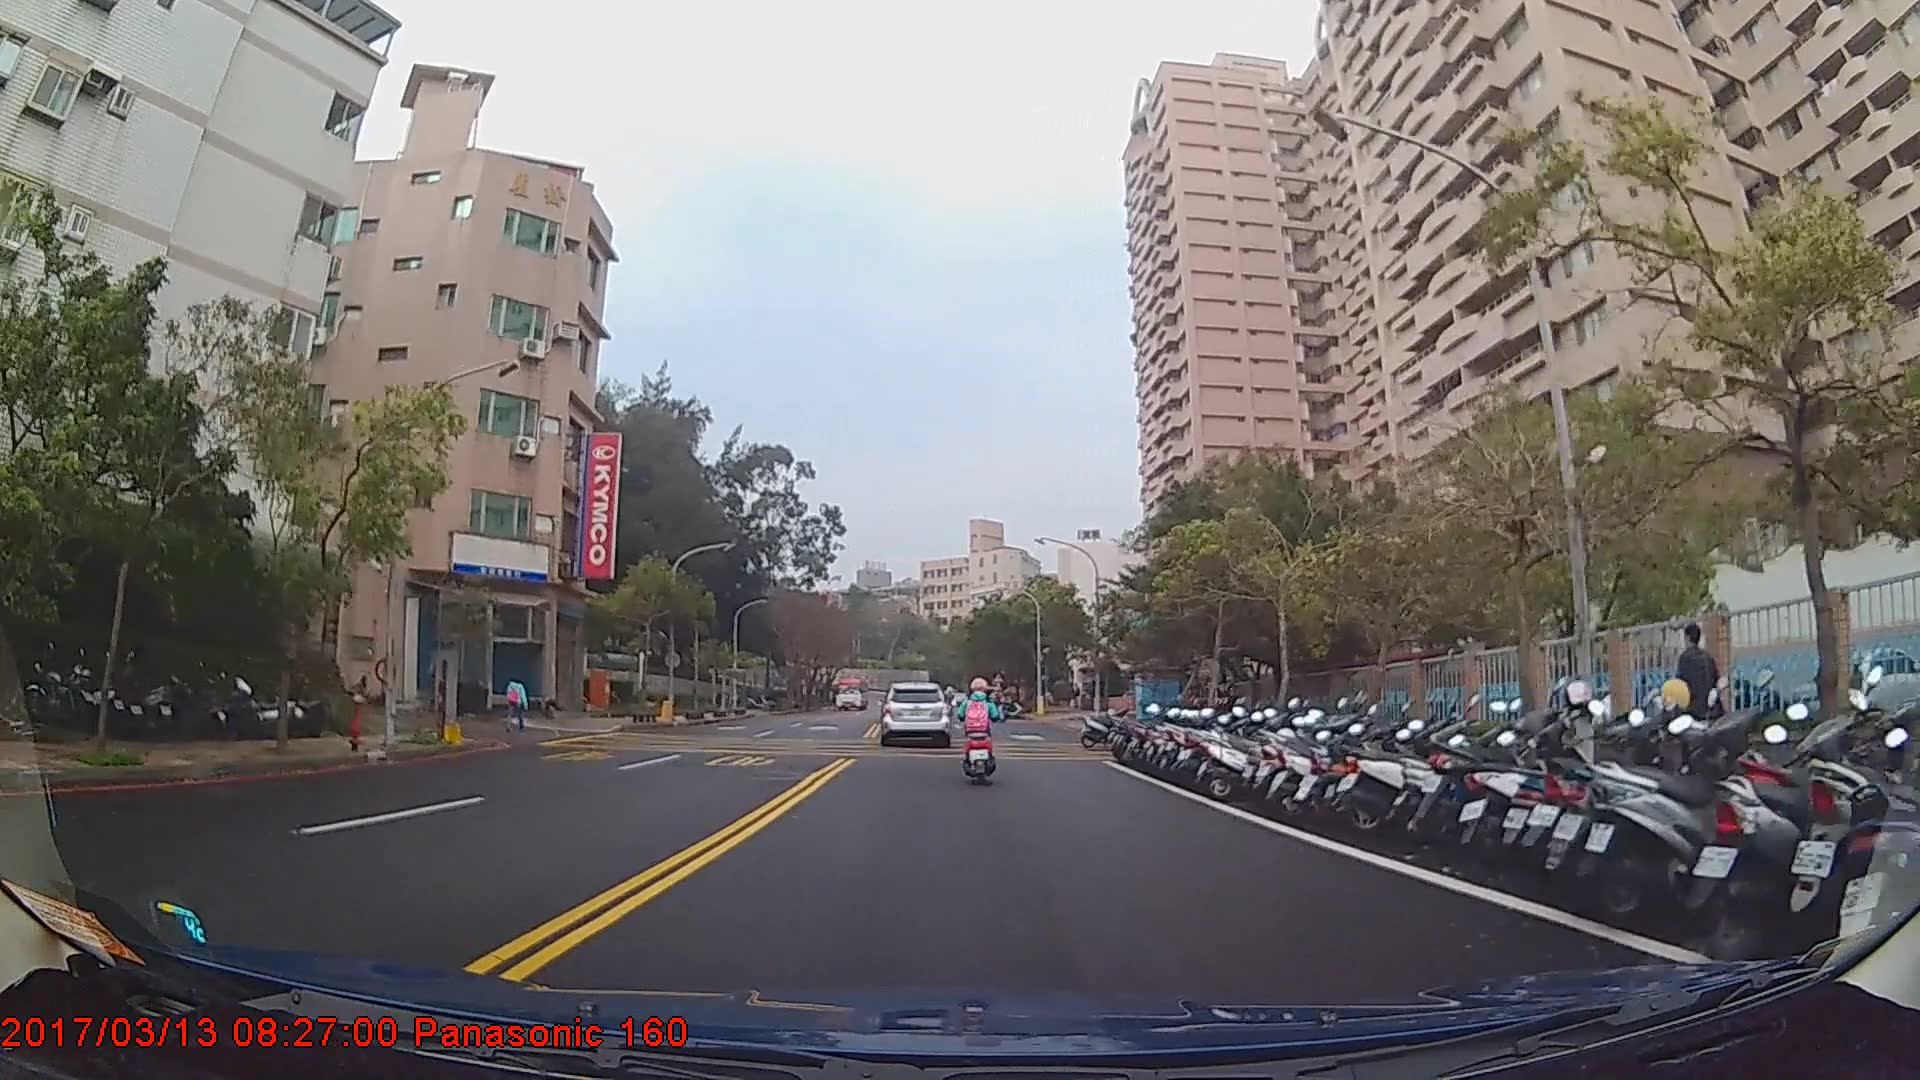pedestrian: (1669, 617, 1723, 772), (506, 671, 529, 735)
rider: (956, 668, 1003, 787)
vehicle: (879, 678, 952, 744), (832, 675, 868, 710)
